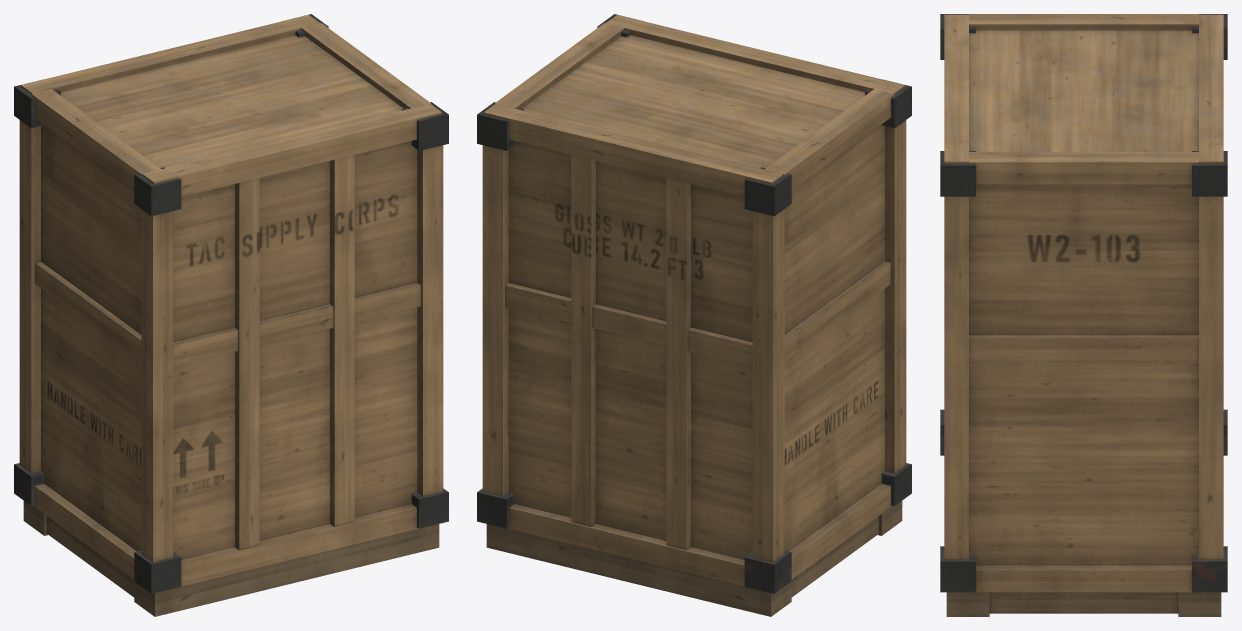
The model's file is W2_Cover_TallPly.fbx.
The picture shows the model from 3 angles, left to right: view 1: azimuth 30°, elevation 25°; view 2: azimuth 150°, elevation 25°; view 3: azimuth 270°, elevation 25°; orthographic projection. The views are drawn at different scales.
Visible parts, largest first — view 1: W2_Cover_TallPly__W2_TallCrate_Ply; view 2: W2_Cover_TallPly__W2_TallCrate_Ply; view 3: W2_Cover_TallPly__W2_TallCrate_Ply.
Part boxes in pixels (x1,y1,x2,y2): W2_Cover_TallPly__W2_TallCrate_Ply: (14,14,448,616); W2_Cover_TallPly__W2_TallCrate_Ply: (477,14,911,616); W2_Cover_TallPly__W2_TallCrate_Ply: (940,14,1227,616).
Bounding box in the file's own units: 500 × 700 × 400.
Materials: 1 (1 with a texture image).
